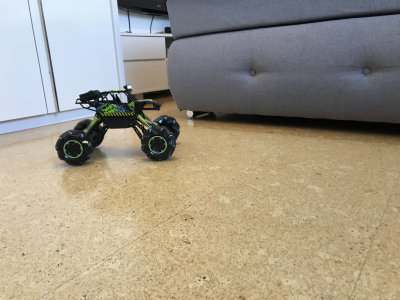remote control car: (52, 85, 183, 167)
